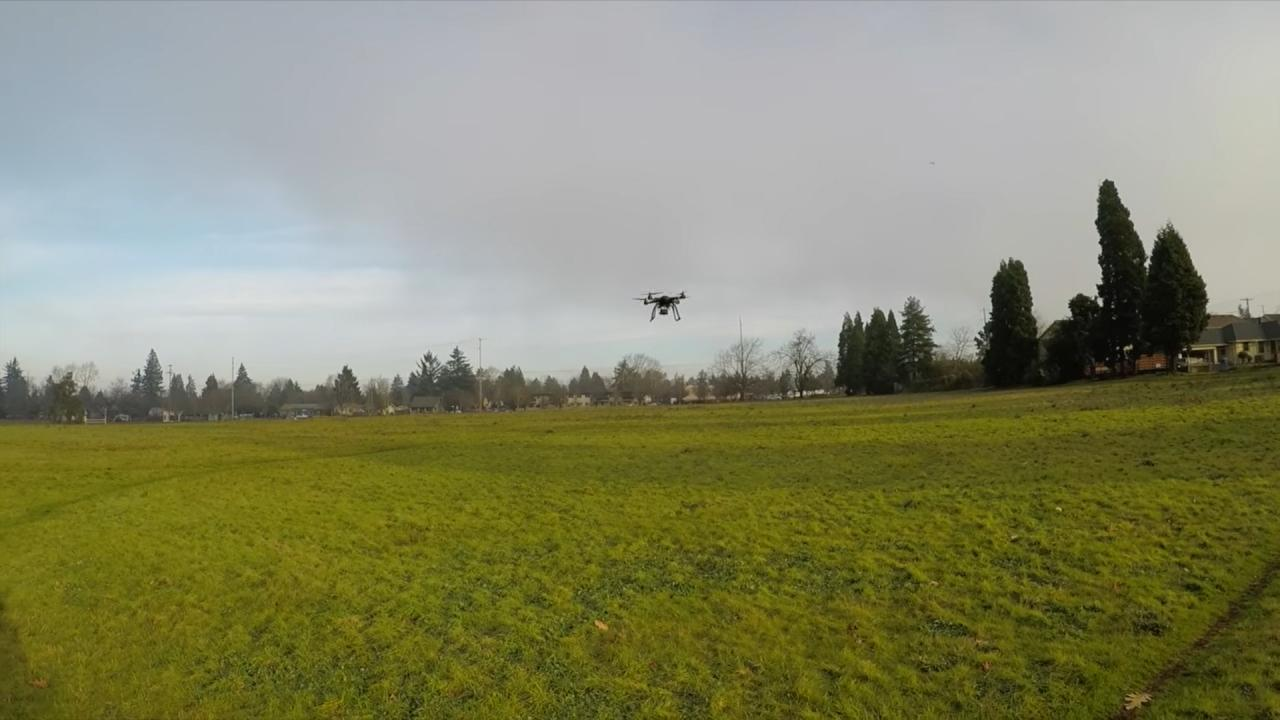Drone: (630, 286, 694, 330)
